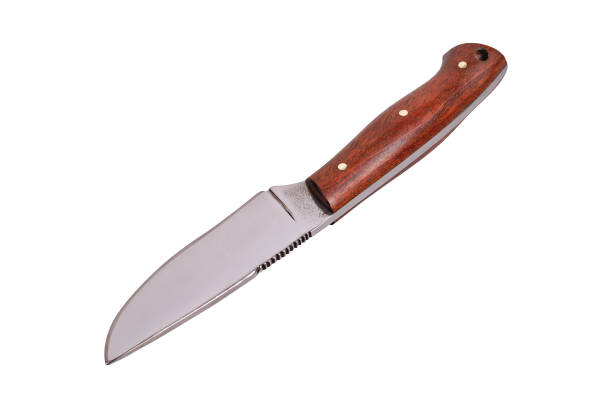knife: (103, 40, 511, 369)
